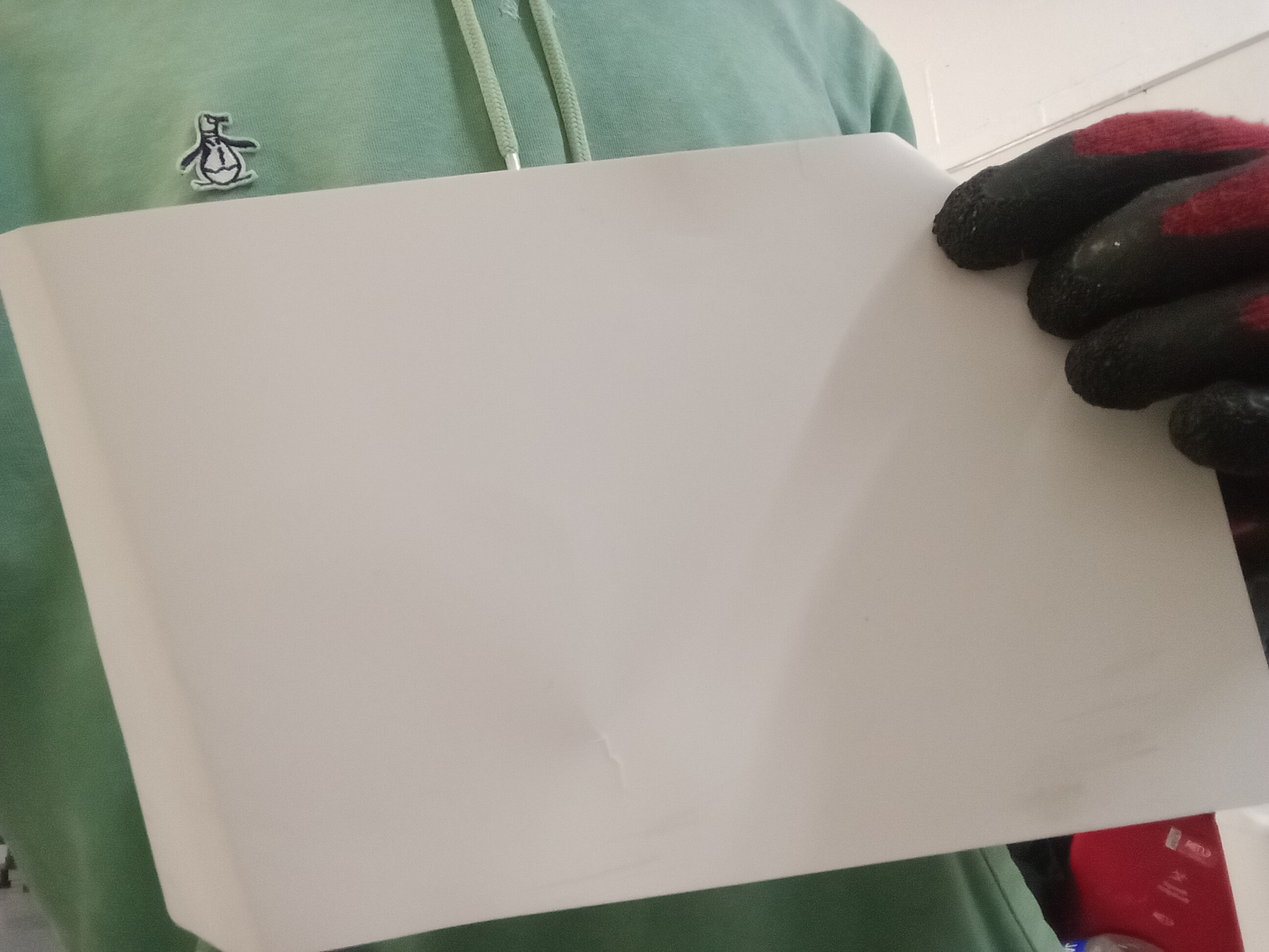Papel: (0, 130, 1269, 952)
